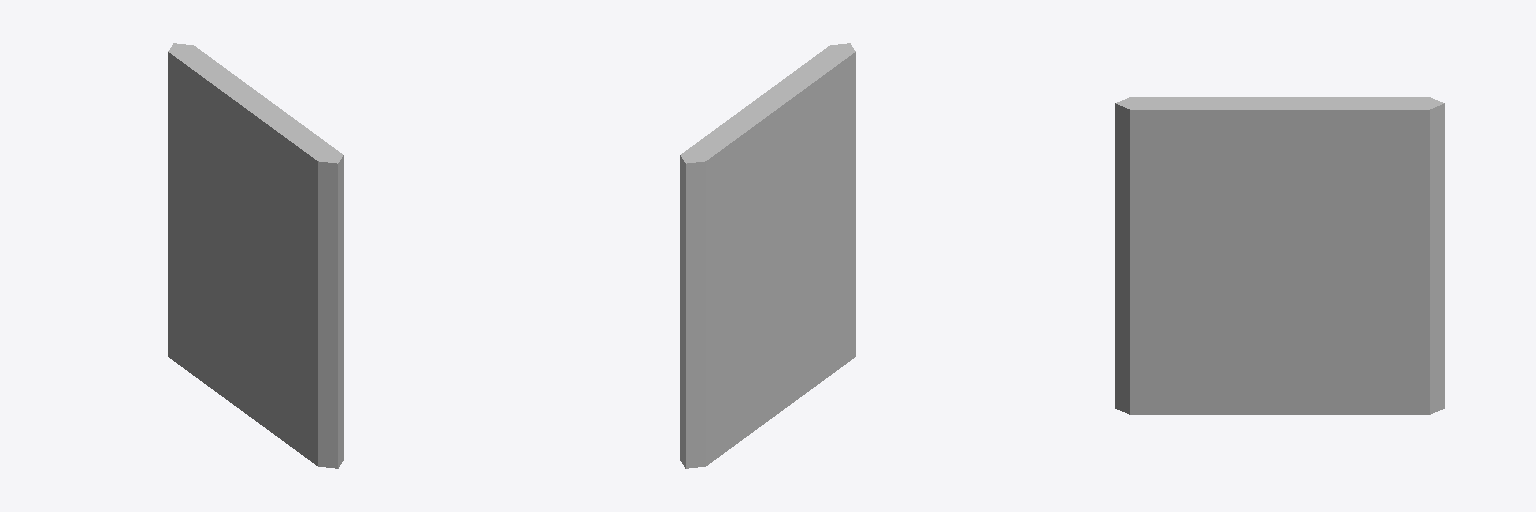
File: wall.obj
The picture shows the model from 3 angles: view 1: azimuth 30°, elevation 25°; view 2: azimuth 150°, elevation 25°; view 3: azimuth 270°, elevation 25°; orthographic projection.
Visible parts, largest first — view 1: Cube; view 2: Cube; view 3: Cube.
Boxes of the visible parts, box(x1,y1,x2,y2) form: Cube: box(168, 43, 343, 468); Cube: box(680, 43, 855, 468); Cube: box(1115, 97, 1444, 414).
Bounding box in the file's own units: 0.2 × 2.25 × 2.2.